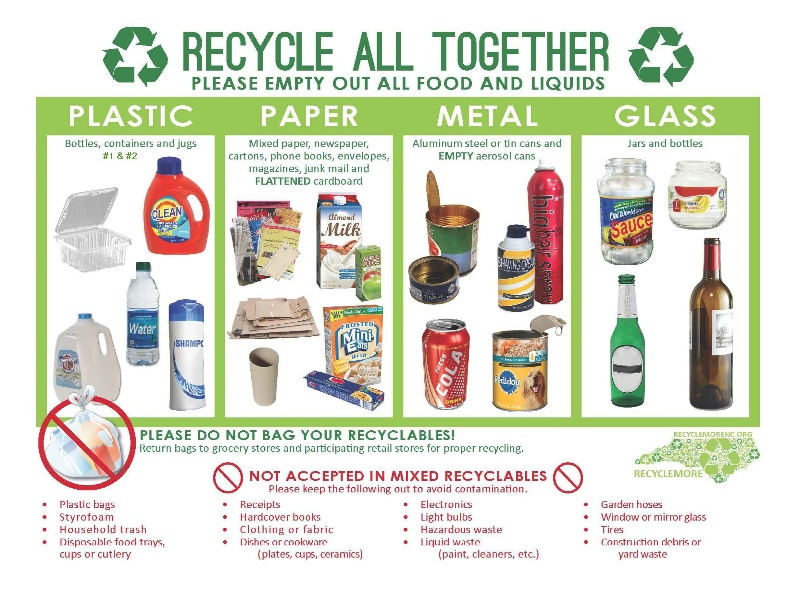Can: (403, 302, 480, 429)
Plastic bottle: (112, 256, 171, 376)
